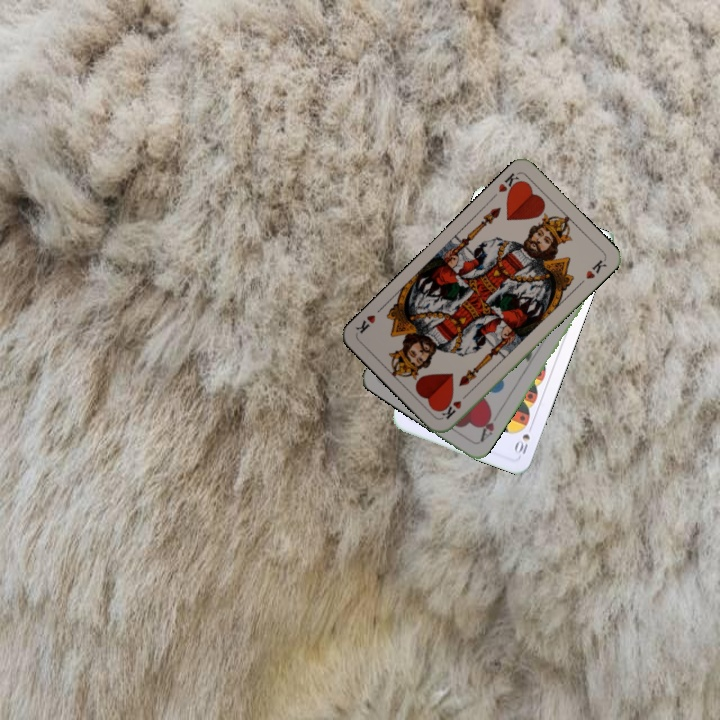HA: (476, 407, 502, 445)
HK: (438, 388, 472, 421), (494, 169, 525, 198)
S10: (510, 420, 536, 457)
